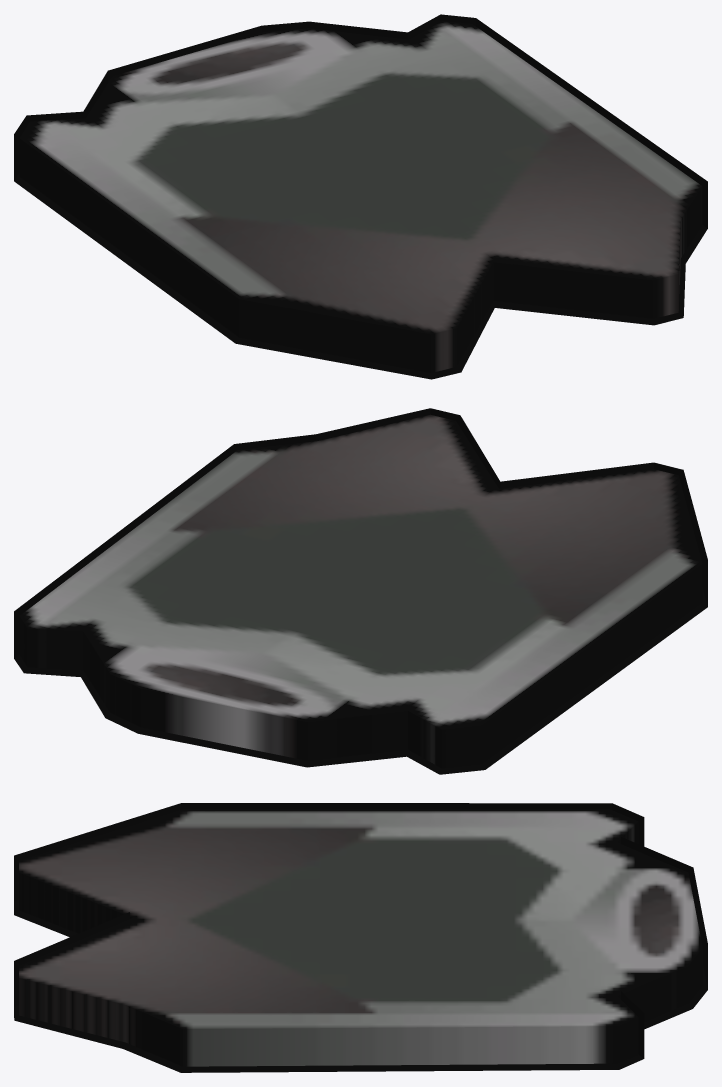
The model's file is Item_Apparel_DeadlifePack_Things_Pawn_Humanlike_Apparel_DeadlifePack_DeadlifePack.glb.
3 views of the same model, one above another, from view 1: azimuth 30°, elevation 25°; view 2: azimuth 150°, elevation 25°; view 3: azimuth 270°, elevation 25° (orthographic). The views are drawn at different scales.
Visible parts, largest first — view 1: Body, Outline; view 2: Body, Outline; view 3: Body, Outline.
Boxes of the visible parts, x1,y1,x2,y2 form: Body: [19, 20, 702, 372]; Outline: [14, 14, 707, 379]; Body: [19, 414, 702, 768]; Outline: [14, 408, 707, 774]; Body: [19, 809, 702, 1066]; Outline: [14, 803, 707, 1072].
Bounding box in the file's own units: 0.5816 × 0.0597 × 0.7614.
Materials: 2 (1 with a texture image).
